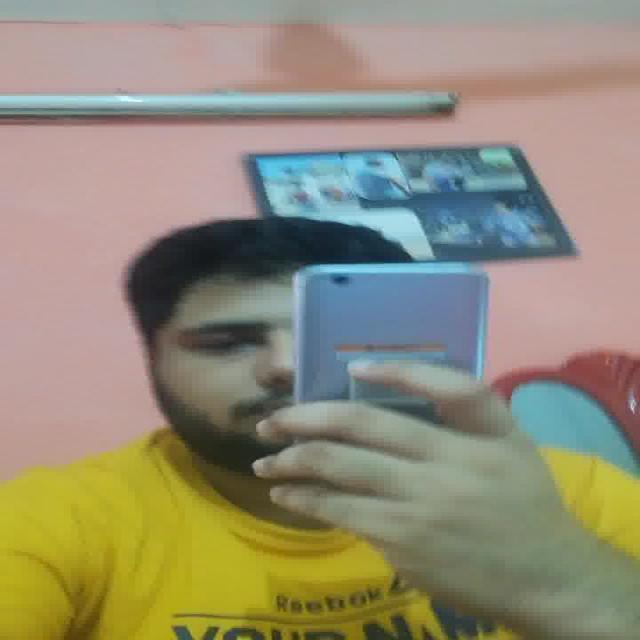Phone: (294, 261, 491, 394)
